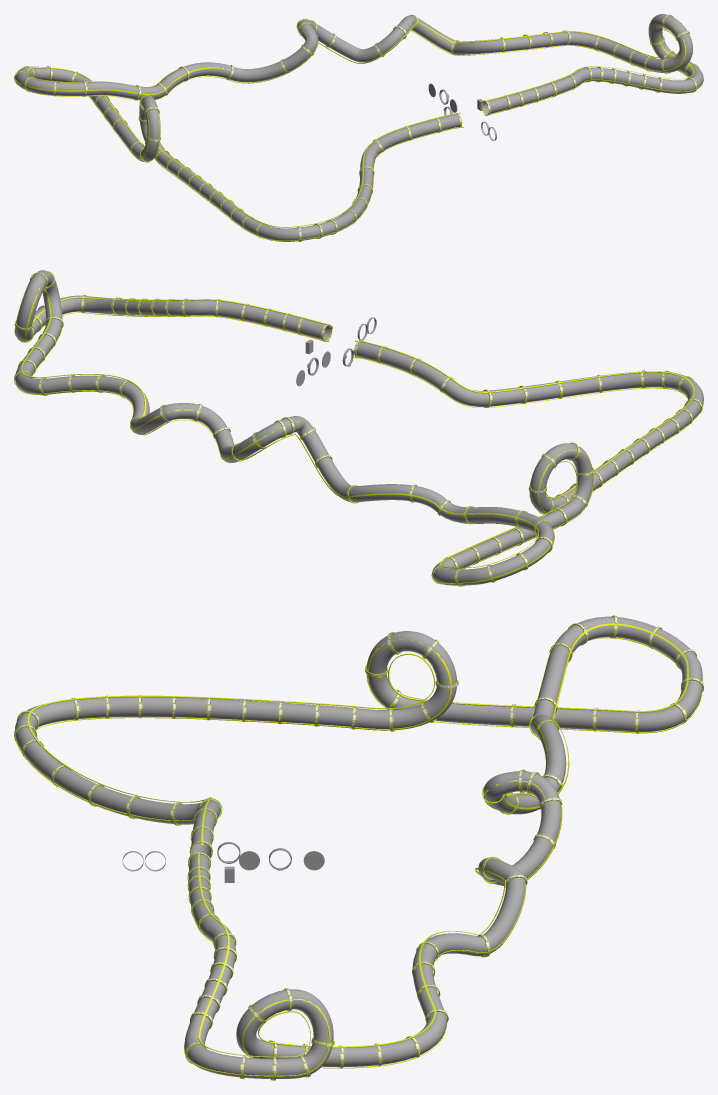
Rendered from SanicLoopsFBX.fbx.
The picture shows the model from 3 angles, top to bottom: view 1: azimuth 30°, elevation 25°; view 2: azimuth 150°, elevation 25°; view 3: azimuth 270°, elevation 25°; orthographic projection. The views are drawn at different scales.
Parts seen in each view (by area): view 1: extrudedSurface1, pCylinder12, CilindroSonic56; view 2: extrudedSurface1, pCylinder12, CilindroSonic56; view 3: extrudedSurface1, pCylinder12, CilindroSonic56.
Boxes of the visible parts, x1=… form: extrudedSurface1: x1=15, y1=14, x2=703, y2=241; pCylinder12: x1=14, y1=18, x2=703, y2=241; CilindroSonic56: x1=14, y1=14, x2=699, y2=241; extrudedSurface1: x1=15, y1=270, x2=703, y2=585; pCylinder12: x1=14, y1=274, x2=703, y2=584; CilindroSonic56: x1=14, y1=271, x2=702, y2=586; extrudedSurface1: x1=15, y1=616, x2=702, y2=1078; pCylinder12: x1=15, y1=623, x2=702, y2=1077; CilindroSonic56: x1=14, y1=615, x2=703, y2=1080.
Bounding box in the file's own units: 263 × 29.65 × 188.
